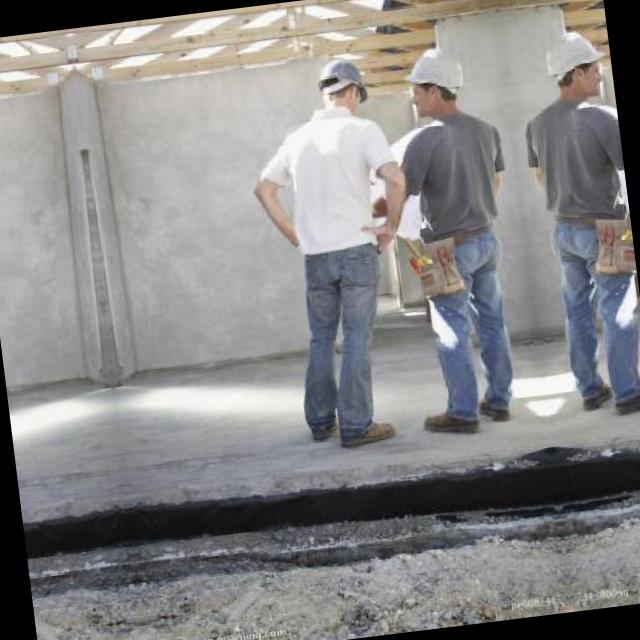helmet: (529, 12, 613, 116), (393, 30, 478, 132), (308, 52, 378, 124)
